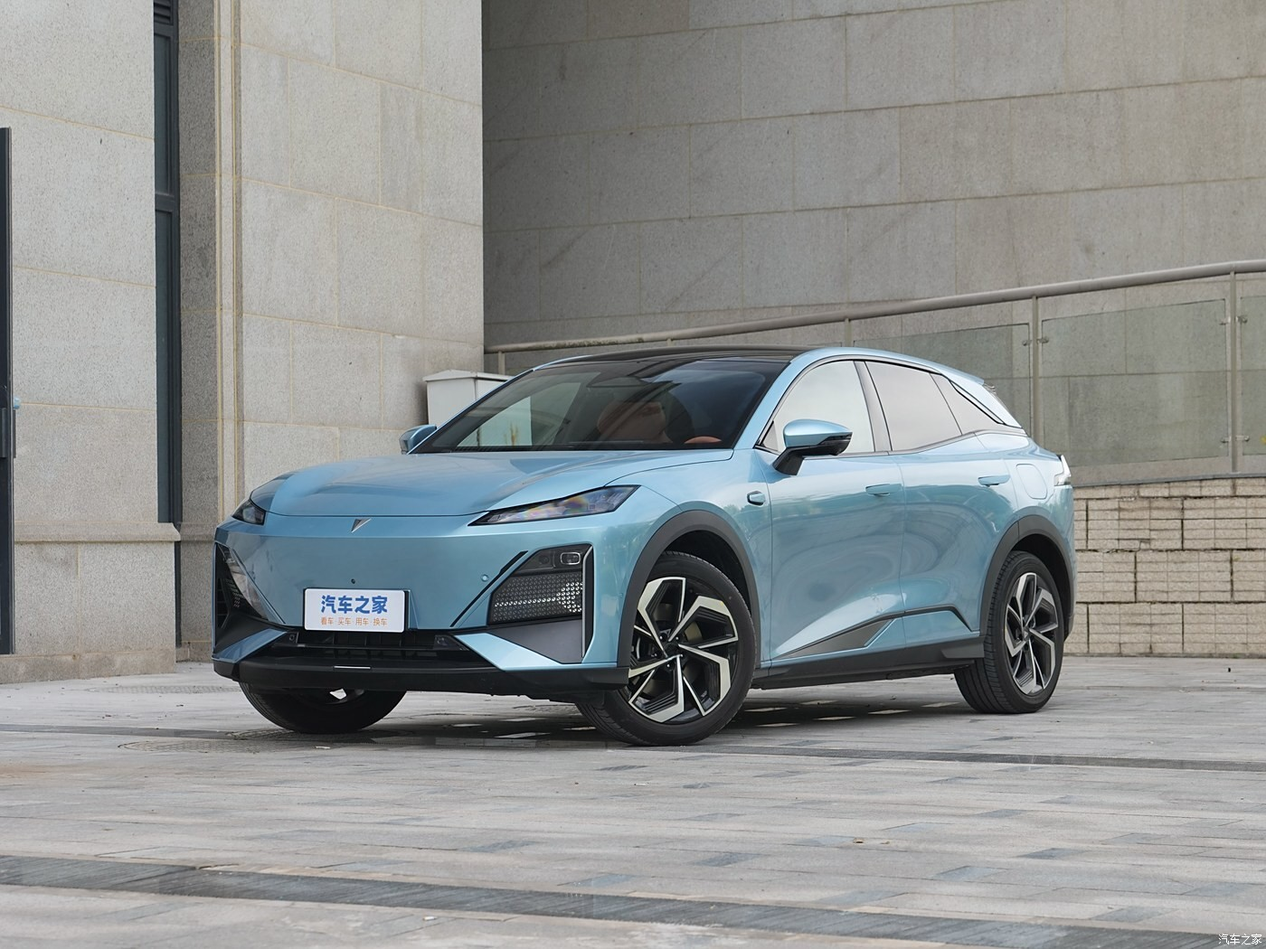Deepal: (351, 517, 370, 531)
